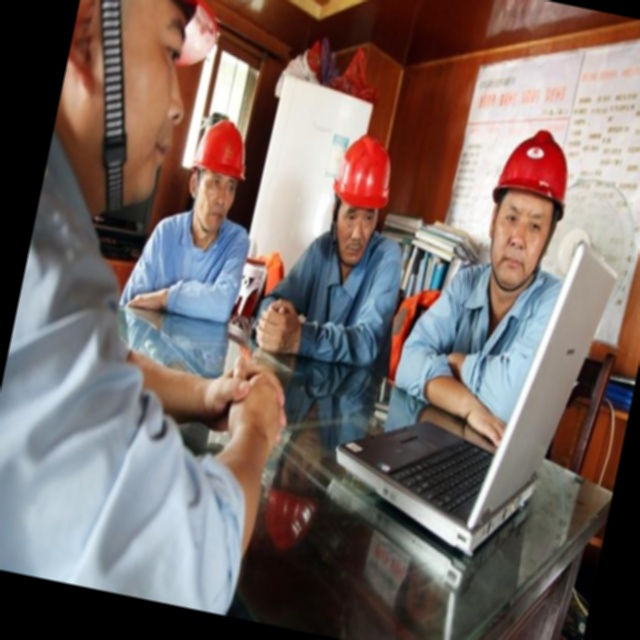Con_Casco: (319, 129, 402, 271), (177, 113, 257, 237)
